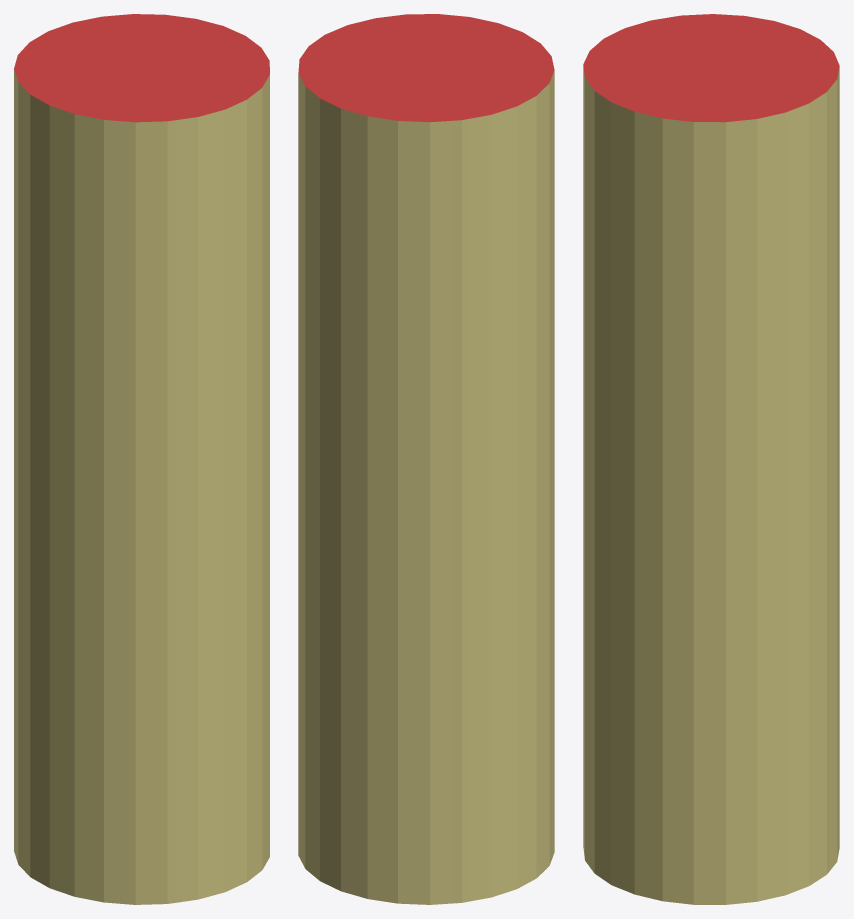
3 renders of one model, left to right at view 1: azimuth 30°, elevation 25°; view 2: azimuth 150°, elevation 25°; view 3: azimuth 270°, elevation 25°, orthographic.
Bounding box in the file's own units: 3.13 × 3.13 × 10.55.
